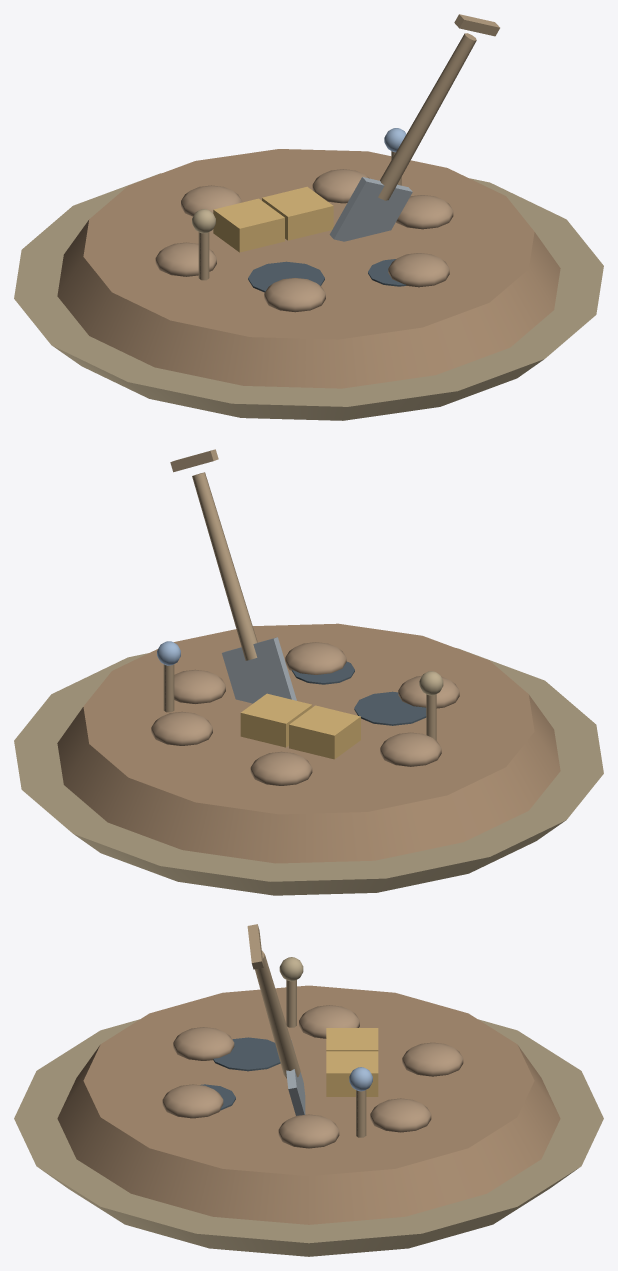
File: party_mg36_dig_patch.glb
3 views of the same model, one above another, from view 1: azimuth 30°, elevation 25°; view 2: azimuth 150°, elevation 25°; view 3: azimuth 270°, elevation 25° (orthographic).
Parts seen in each view (by area): view 1: _MeshInstance3D_337, _MeshInstance3D_336, _MeshInstance3D_355, _MeshInstance3D_353, _MeshInstance3D_346, _MeshInstance3D_347, _MeshInstance3D_340, _MeshInstance3D_339, _MeshInstance3D_338, _MeshInstance3D_341, _MeshInstance3D_344, _MeshInstance3D_343 (+4 smaller); view 2: _MeshInstance3D_337, _MeshInstance3D_336, _MeshInstance3D_355, _MeshInstance3D_353, _MeshInstance3D_346, _MeshInstance3D_347, _MeshInstance3D_344, _MeshInstance3D_341, _MeshInstance3D_342, _MeshInstance3D_343, _MeshInstance3D_339, _MeshInstance3D_338 (+2 smaller); view 3: _MeshInstance3D_337, _MeshInstance3D_336, _MeshInstance3D_347, _MeshInstance3D_353, _MeshInstance3D_338, _MeshInstance3D_343, _MeshInstance3D_342, _MeshInstance3D_339, _MeshInstance3D_340, _MeshInstance3D_344, _MeshInstance3D_341, _MeshInstance3D_346 (+6 smaller).
Part boxes in pixels (<box>): _MeshInstance3D_337: <box>57,149,560,388</box>; _MeshInstance3D_336: <box>14,173,603,420</box>; _MeshInstance3D_355: <box>329,177,412,241</box>; _MeshInstance3D_353: <box>378,33,476,200</box>; _MeshInstance3D_346: <box>213,198,284,252</box>; _MeshInstance3D_347: <box>262,186,333,240</box>; _MeshInstance3D_340: <box>264,278,325,312</box>; _MeshInstance3D_339: <box>388,253,449,287</box>; _MeshInstance3D_338: <box>396,195,453,229</box>; _MeshInstance3D_341: <box>155,242,216,276</box>; _MeshInstance3D_344: <box>248,261,324,292</box>; _MeshInstance3D_343: <box>312,169,369,203</box>; _MeshInstance3D_337: <box>57,623,560,863</box>; _MeshInstance3D_336: <box>14,648,603,895</box>; _MeshInstance3D_355: <box>222,637,296,703</box>; _MeshInstance3D_353: <box>192,472,257,660</box>; _MeshInstance3D_346: <box>289,705,360,759</box>; _MeshInstance3D_347: <box>240,693,312,747</box>; _MeshInstance3D_344: <box>354,691,426,725</box>; _MeshInstance3D_341: <box>380,732,441,766</box>; _MeshInstance3D_342: <box>250,751,312,785</box>; _MeshInstance3D_343: <box>151,711,212,745</box>; _MeshInstance3D_339: <box>285,642,346,674</box>; _MeshInstance3D_338: <box>174,669,225,703</box>; _MeshInstance3D_337: <box>57,985,560,1224</box>; _MeshInstance3D_336: <box>14,1019,603,1256</box>; _MeshInstance3D_347: <box>326,1051,378,1096</box>; _MeshInstance3D_353: <box>255,950,300,1078</box>; _MeshInstance3D_338: <box>278,1114,339,1148</box>; _MeshInstance3D_343: <box>370,1098,431,1132</box>; _MeshInstance3D_342: <box>402,1042,463,1076</box>; _MeshInstance3D_339: <box>162,1084,223,1118</box>; _MeshInstance3D_340: <box>173,1027,234,1060</box>; _MeshInstance3D_344: <box>213,1037,280,1071</box>; _MeshInstance3D_341: <box>299,1005,359,1038</box>; _MeshInstance3D_346: <box>326,1028,378,1051</box>.
Size of the model in its own units: 3.4 by 1.8 by 3.4.
